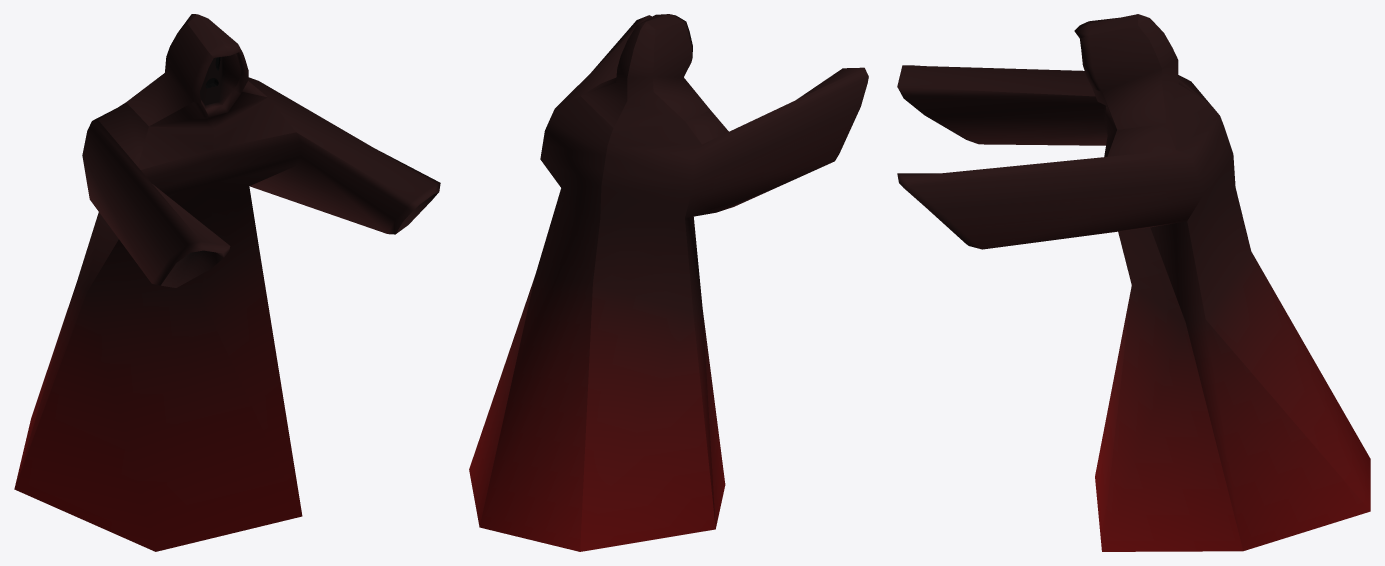
File: ghost_boi.fbx
The picture shows the model from 3 angles, left to right: view 1: azimuth 30°, elevation 25°; view 2: azimuth 150°, elevation 25°; view 3: azimuth 270°, elevation 25°; orthographic projection. The views are drawn at different scales.
Parts seen in each view (by area): view 1: ghost_boi; view 2: ghost_boi; view 3: ghost_boi.
Part boxes in pixels (bbox=[...]): ghost_boi: bbox=[14, 14, 440, 551]; ghost_boi: bbox=[469, 14, 868, 551]; ghost_boi: bbox=[897, 14, 1370, 551].
Size of the model in its own units: 101 by 183 by 158.
